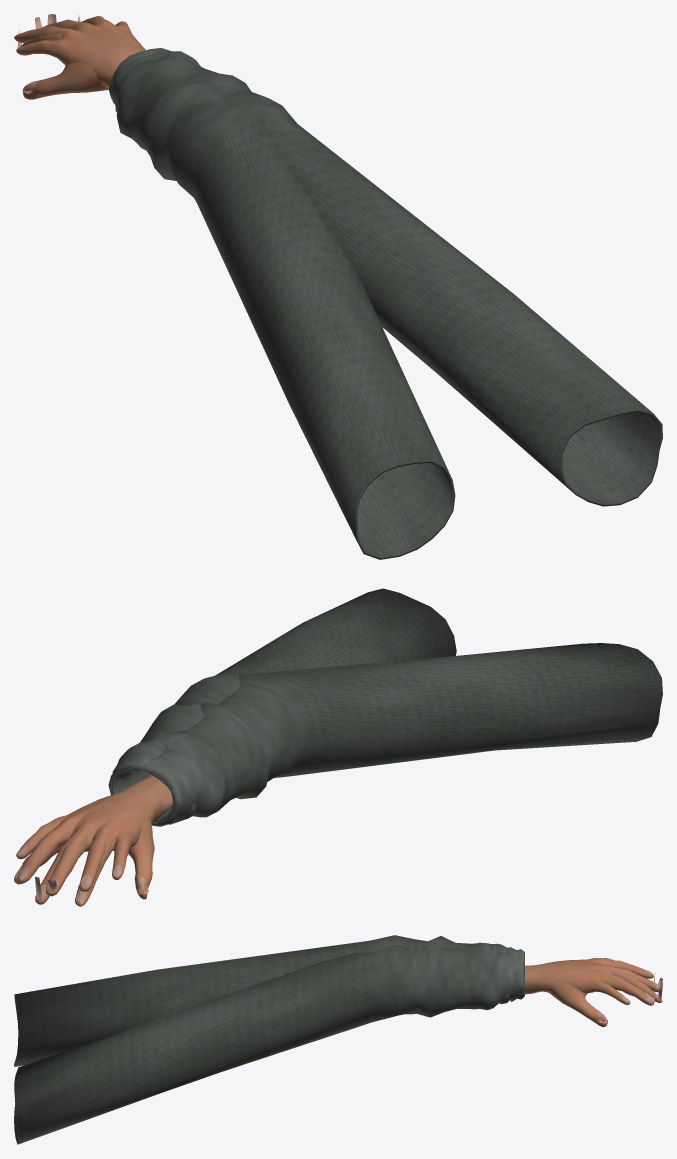
Rendered from fps-arms-web.glb.
3 views of the same model, one above another, from view 1: azimuth 30°, elevation 25°; view 2: azimuth 150°, elevation 25°; view 3: azimuth 270°, elevation 25° (orthographic). The views are drawn at different scales.
Parts seen in each view (by area): view 1: FPS_Arm_Left, FPS_Arm_Right; view 2: FPS_Arm_Left, FPS_Arm_Right; view 3: FPS_Arm_Right, FPS_Arm_Left.
Boxes of the visible parts, x1,y1,x2,y2 form: FPS_Arm_Left: [14, 15, 455, 559]; FPS_Arm_Right: [17, 14, 662, 506]; FPS_Arm_Left: [16, 643, 662, 896]; FPS_Arm_Right: [14, 588, 456, 906]; FPS_Arm_Right: [14, 944, 662, 1144]; FPS_Arm_Left: [14, 935, 662, 1066].
Bounding box in the file's own units: 0.3442 × 0.2467 × 0.9053.
Materials: 3 (2 with a texture image).
